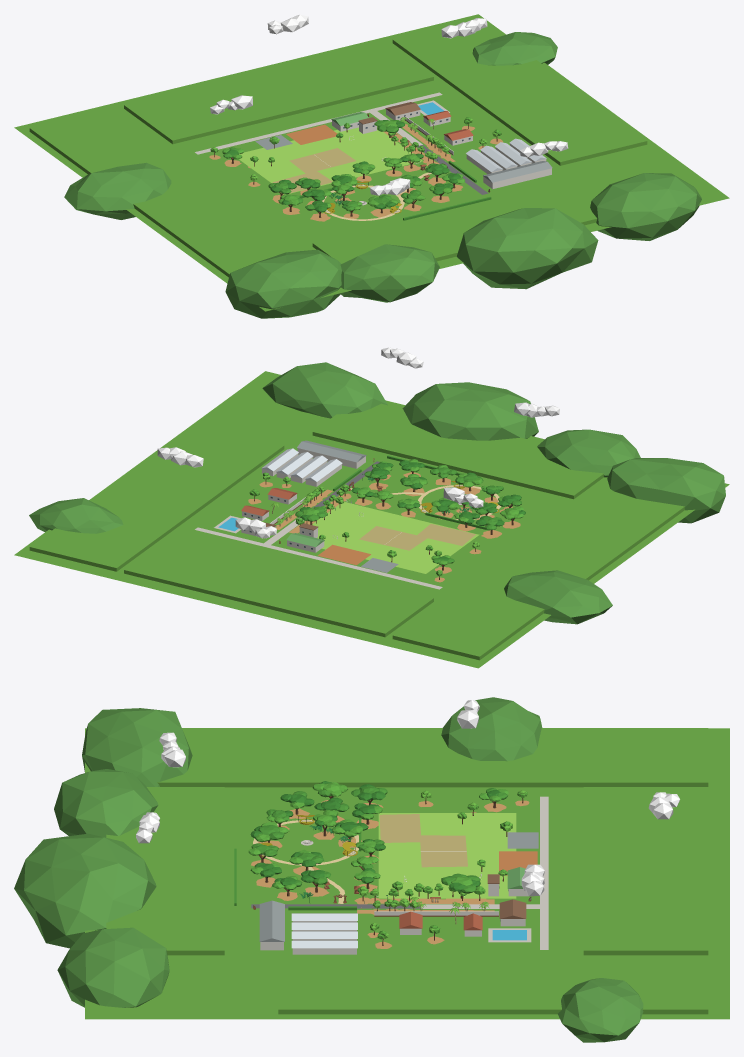
The model's file is escena.glb.
3 views of the same model, one above another, from view 1: azimuth 30°, elevation 25°; view 2: azimuth 150°, elevation 25°; view 3: azimuth 270°, elevation 25° (orthographic). The views are drawn at different scales.
Visible parts, largest first — view 1: Canaduzal, Cerros, Terreno_Exterior, Terreno_Campus, Cancha_Futbol, Nubes, Galpon_01, Via_Concreto, Canchas_Deportivas, Setos; view 2: Canaduzal, Cerros, Terreno_Exterior, Terreno_Campus, Cancha_Futbol, Nubes, Via_Concreto, Galpon_01, Canchas_Deportivas, Edificio_Techo_Verde_01, Invernadero_02; view 3: Canaduzal, Cerros, Terreno_Exterior, Terreno_Campus, Cancha_Futbol, Nubes, Via_Concreto, Galpon_01, Canchas_Deportivas, Invernadero_01, Hojarasca_Bordes, Casa_01 (+9 smaller).
Part boxes in pixels (left/top/right/bottom): Canaduzal: left=29, top=21, right=647, bottom=277; Cerros: left=64, top=32, right=701, bottom=318; Terreno_Exterior: left=14, top=14, right=729, bottom=311; Terreno_Campus: left=185, top=86, right=562, bottom=239; Cancha_Futbol: left=239, top=127, right=422, bottom=193; Nubes: left=210, top=15, right=568, bottom=195; Galpon_01: left=483, top=161, right=552, bottom=189; Via_Concreto: left=195, top=92, right=442, bottom=154; Canchas_Deportivas: left=255, top=124, right=337, bottom=149; Setos: left=299, top=160, right=491, bottom=220; Canaduzal: left=29, top=403, right=684, bottom=660; Cerros: left=29, top=362, right=725, bottom=624; Terreno_Exterior: left=14, top=371, right=729, bottom=668; Terreno_Campus: left=182, top=449, right=559, bottom=595; Cancha_Futbol: left=299, top=502, right=479, bottom=573; Nubes: left=157, top=347, right=559, bottom=538; Via_Concreto: left=195, top=517, right=442, bottom=589; Galpon_01: left=297, top=440, right=366, bottom=468; Canchas_Deportivas: left=317, top=544, right=398, bottom=572; Edificio_Techo_Verde_01: left=286, top=533, right=324, bottom=552; Invernadero_02: left=305, top=459, right=342, bottom=486; Canaduzal: left=106, top=728, right=708, bottom=1014; Cerros: left=14, top=697, right=643, bottom=1042; Terreno_Exterior: left=85, top=728, right=729, bottom=1019; Terreno_Campus: left=244, top=795, right=566, bottom=953; Cancha_Futbol: left=378, top=813, right=516, bottom=898; Nubes: left=136, top=700, right=679, bottom=896; Via_Concreto: left=421, top=796, right=548, bottom=949; Galpon_01: left=259, top=900, right=284, bottom=950; Canchas_Deportivas: left=499, top=832, right=538, bottom=875; Invernadero_01: left=291, top=940, right=357, bottom=954; Hojarasca_Bordes: left=357, top=899, right=494, bottom=913; Casa_01: left=499, top=899, right=526, bottom=926.
Bounding box in the file's own units: 364 × 74.4 × 333.
Materials: 71 (31 with a texture image).
